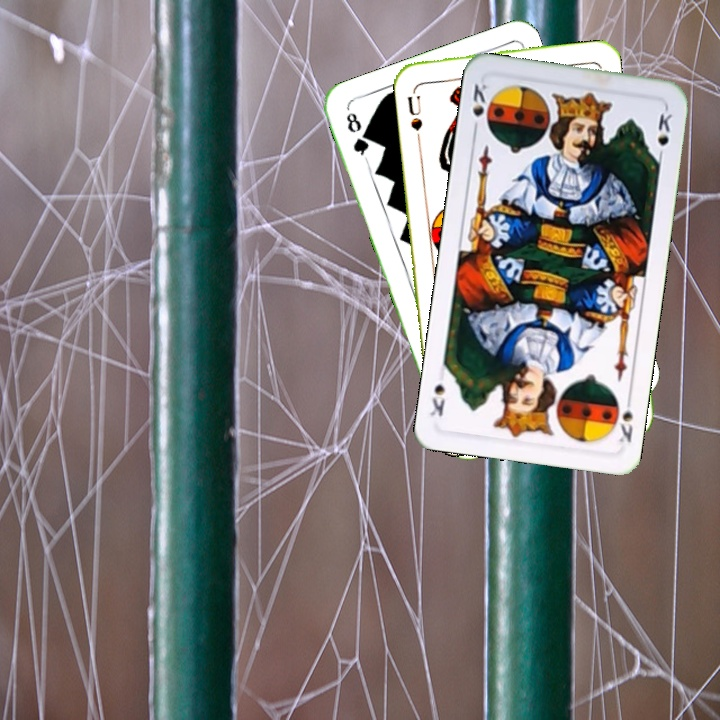G8: (342, 108, 372, 158)
SK: (608, 391, 636, 446), (468, 80, 494, 136)
SU: (403, 92, 425, 133)
